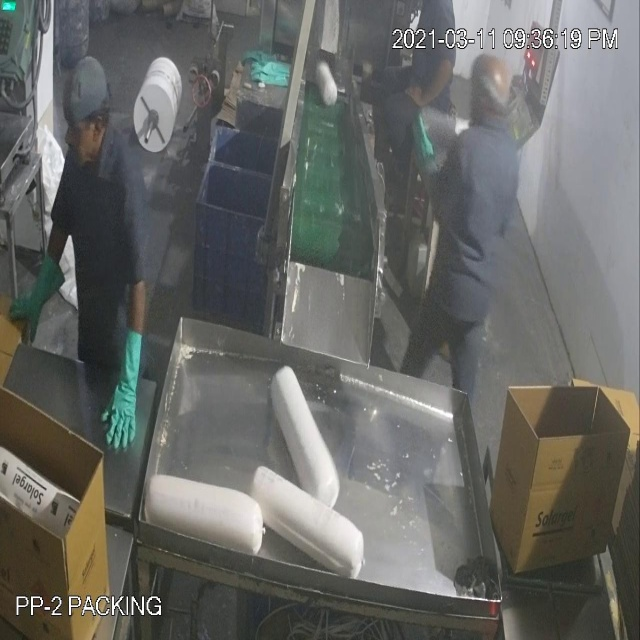Guantes: (85, 312, 154, 467), (4, 246, 68, 351)
Sin_guantes: (407, 53, 457, 117)
